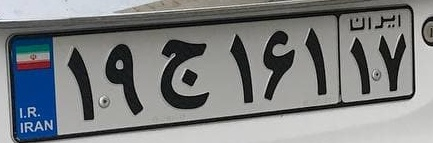character: (147, 34, 222, 111), (100, 35, 145, 125), (59, 42, 102, 129), (255, 27, 298, 104), (297, 23, 336, 105), (220, 32, 260, 110), (372, 30, 411, 95), (342, 34, 377, 99)
